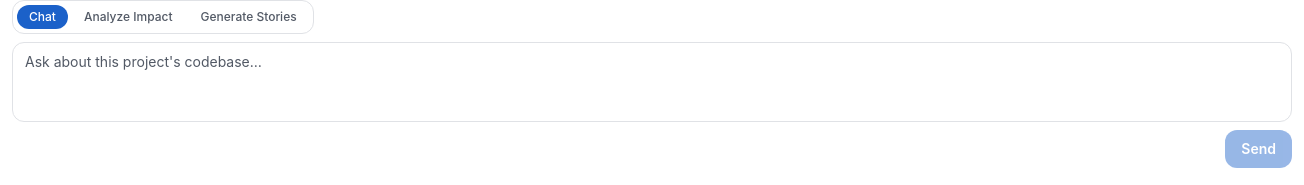
Test: ChatComposer › disables Send while the action is pending and re-enables the sending state after resolve
Type "hello" into the text box with placeholder "Ask about this project's codebase…".
click(652, 82); type("hello")  # box [12, 42, 1292, 122]
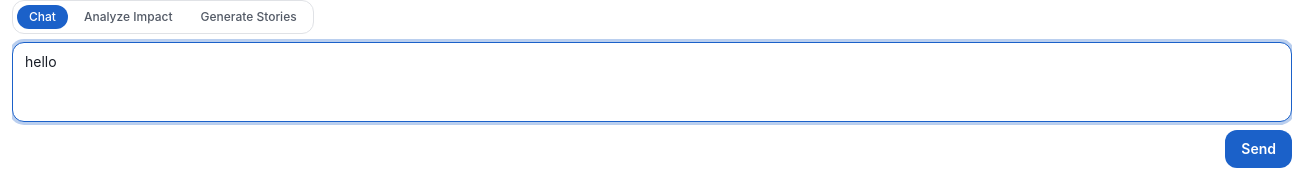
Click the button "Send".
click(1259, 149)  # box [1225, 130, 1292, 168]
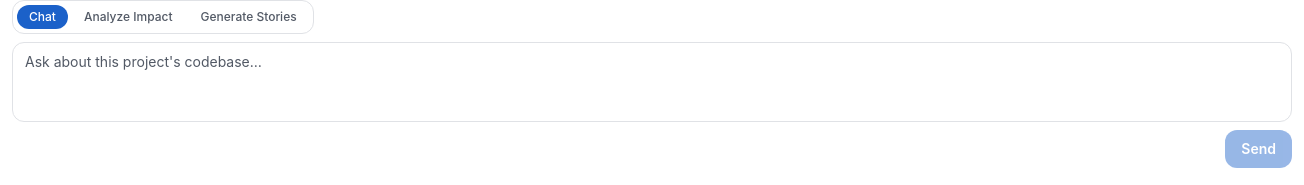
Expected: the button named "sending" is disabled, [1225, 130, 1292, 168]
